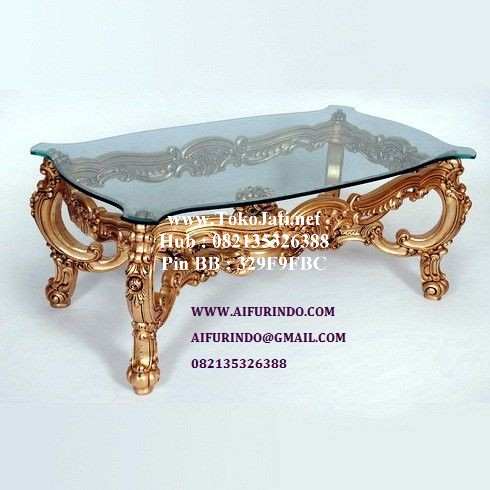Carving Table: (26, 104, 483, 399)
